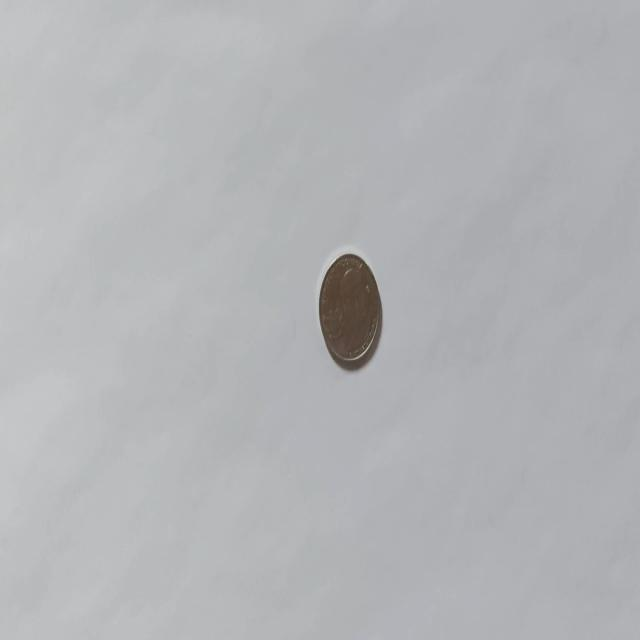seribu rupiah koin: (316, 249, 382, 368)
